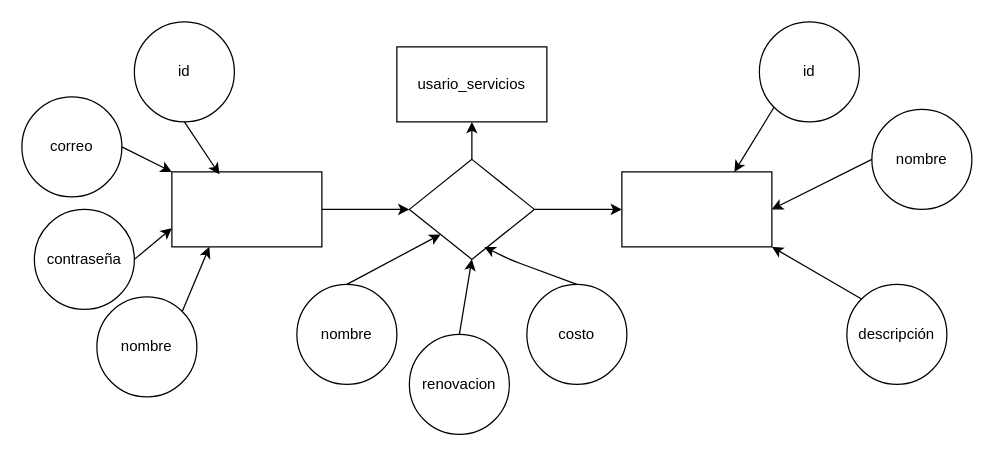
Image size: 994x456. Some labels were removed from this diagram. The centre of each missing label's shape, as x and y in pixels:
contrata: the point at 471,208
servicios: the point at 696,209
usuario: the point at 246,209
